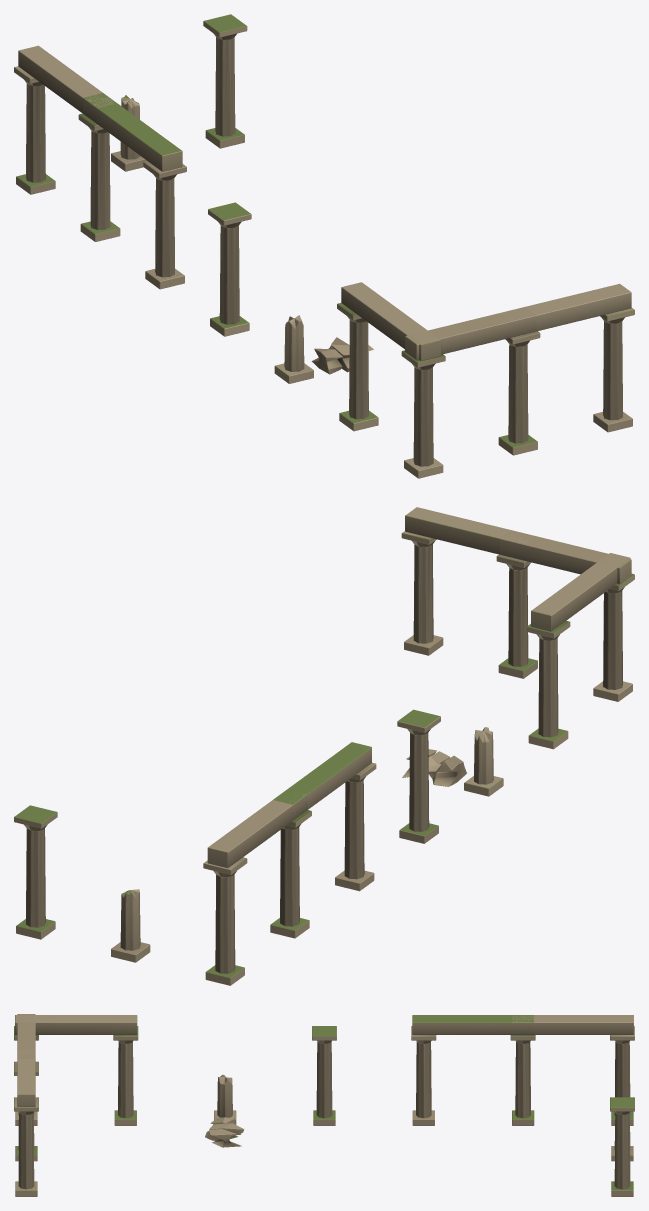
The model's file is Colonnade.glb.
3 views of the same model, one above another, from view 1: azimuth 30°, elevation 25°; view 2: azimuth 150°, elevation 25°; view 3: azimuth 270°, elevation 25° (orthographic). The views are drawn at different scales.
Visible parts, largest first — view 1: Colonnade; view 2: Colonnade; view 3: Colonnade.
Boxes of the visible parts, x1,y1,x2,y2 form: Colonnade: (14, 14, 634, 478); Colonnade: (14, 507, 634, 985); Colonnade: (14, 1014, 634, 1196).
Size of the model in its own units: 25.26 by 14.8 by 81.25.
